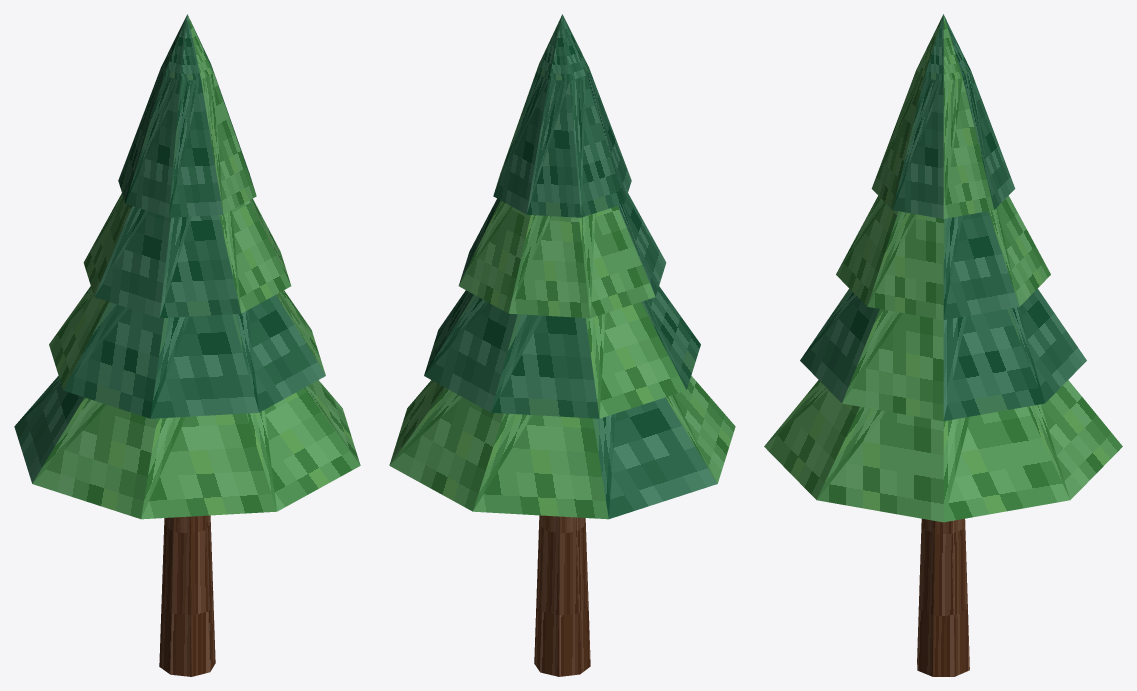
Rendered from 11_pino_joven.glb.
3 renders of one model, left to right at view 1: azimuth 30°, elevation 25°; view 2: azimuth 150°, elevation 25°; view 3: azimuth 270°, elevation 25°, orthographic.
Visible parts, largest first — view 1: world; view 2: world; view 3: world.
Boxes of the visible parts, <box> form: world: <box>14,14,360,676</box>; world: <box>389,14,735,676</box>; world: <box>764,14,1122,676</box>.
Bounding box in the file's own units: 5.99 × 12 × 5.99.
1 material, 1 textured.
